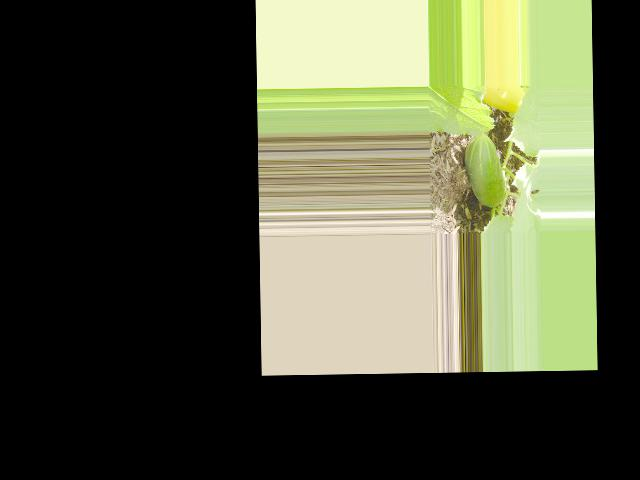cucumber: (463, 133, 505, 208)
